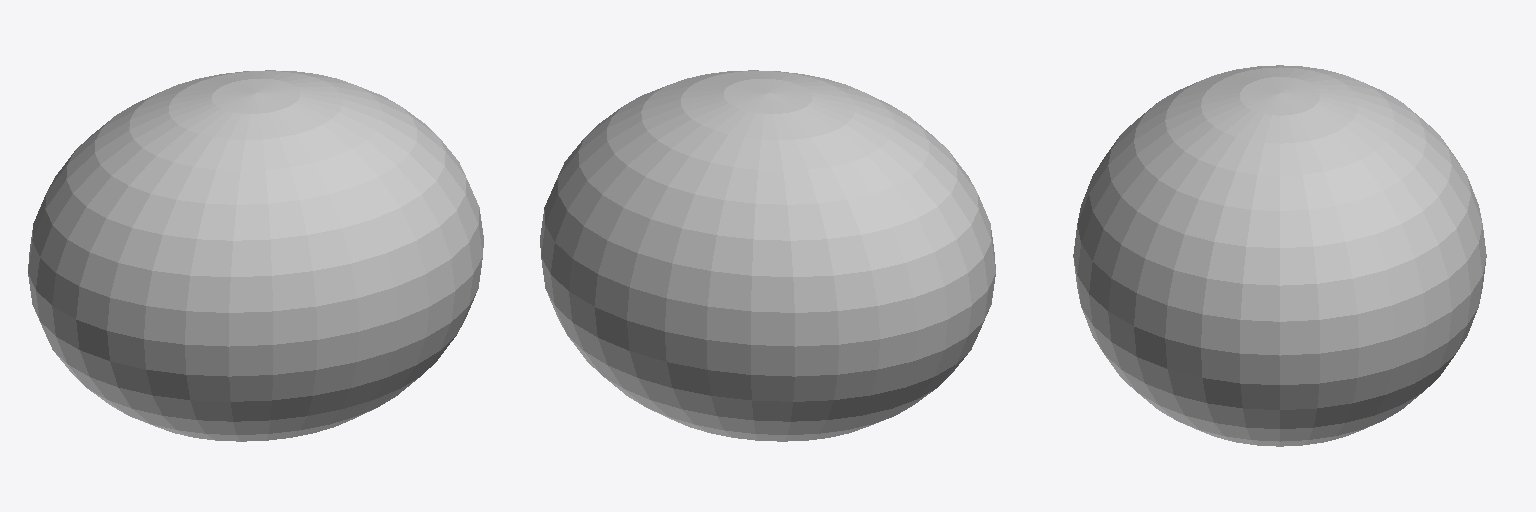
Rendered from testBall.obj.
3 views of the same model, side by side, from view 1: azimuth 30°, elevation 25°; view 2: azimuth 150°, elevation 25°; view 3: azimuth 270°, elevation 25° (orthographic).
Visible parts, largest first — view 1: 球体; view 2: 球体; view 3: 球体.
Boxes of the visible parts, box(x1,y1,x2,y2) form: 球体: box(28, 70, 483, 441); 球体: box(540, 70, 995, 441); 球体: box(1073, 65, 1486, 446).
Bounding box in the file's own units: 3.67 × 2.8 × 3.22.